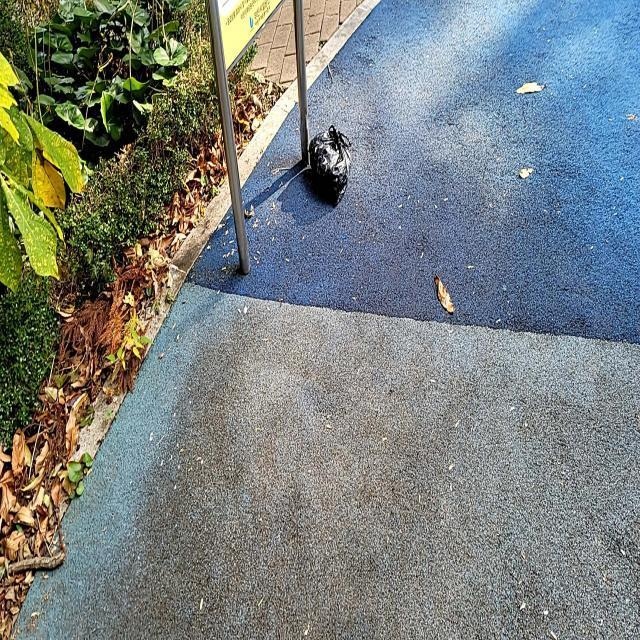Trashbag: (302, 129, 358, 205)
